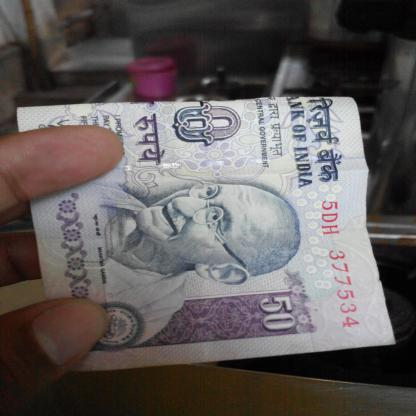Old50Front: (16, 95, 399, 374)
